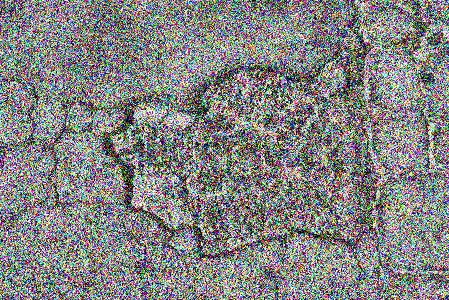pothole: (101, 60, 377, 259)
